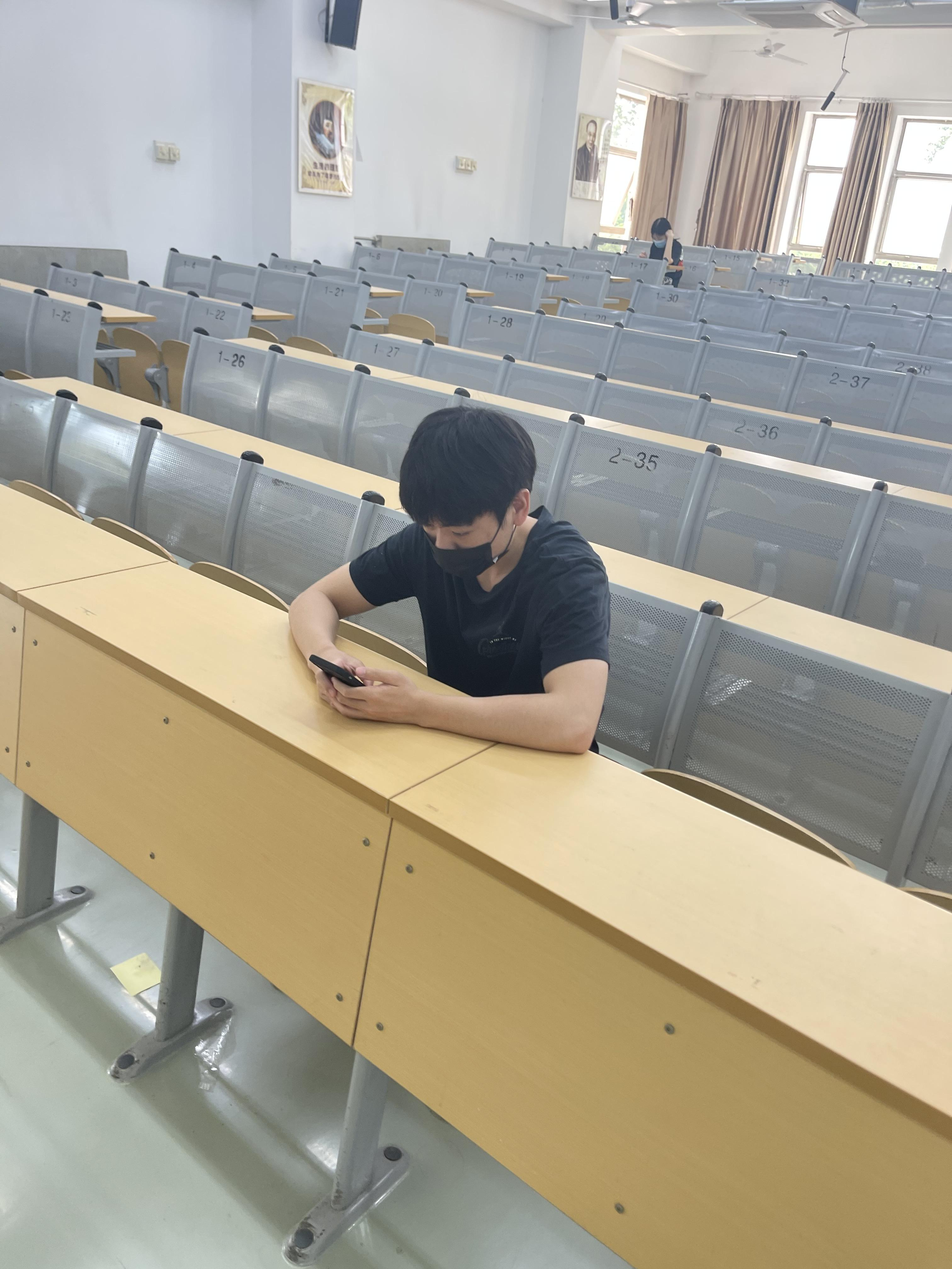phone: (290, 409, 611, 756)
study: (647, 216, 681, 267)
